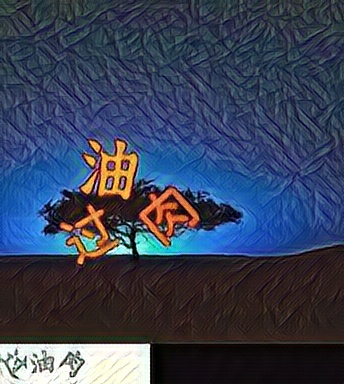B9FD: (58, 204, 124, 268)
C8E2: (137, 186, 203, 250)
D3CD: (74, 138, 140, 202)
